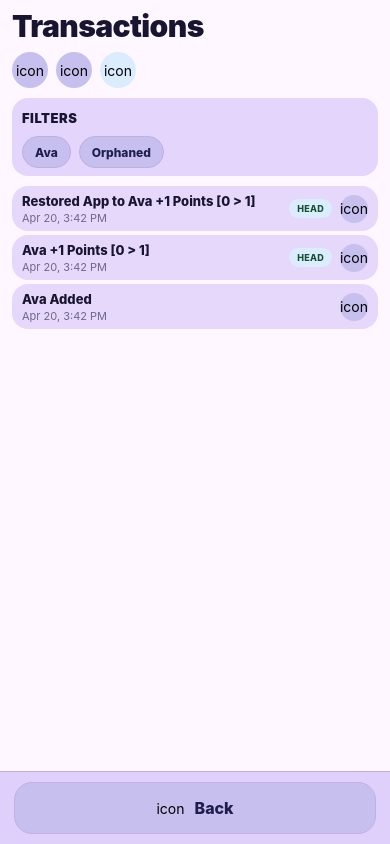
Scenario: TransactionsScreen › can jump from a restore transaction to the original restored transaction
Click the button with aria-label "Expand Restored App to Ava +1 Points [0 > 1]".
click(195, 208)  # box 22,192 -> 368,225
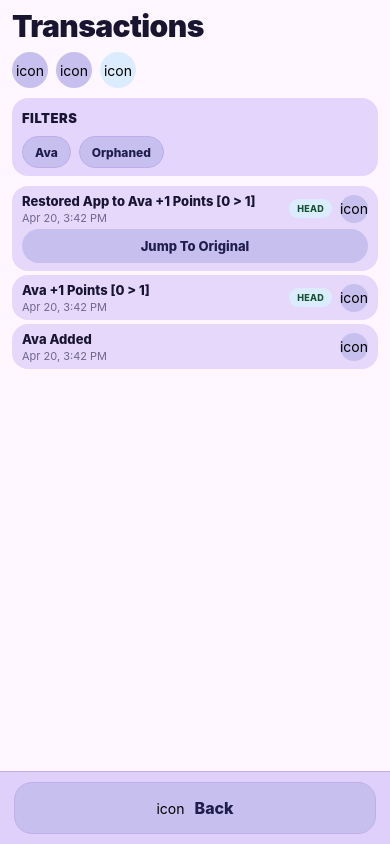
Click the button "Jump To Original".
click(195, 246)  # box 22,229 -> 368,263
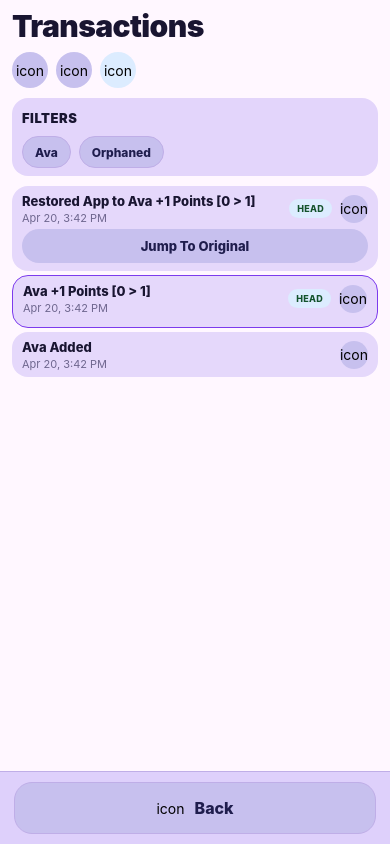
Check: the text "Ava +1 Points [0 > 1]" is shown, box 23,283 -> 151,299
Check: the button with aria-label "Collapse Ava +1 Points [0 > 1]" is shown, box 23,282 -> 367,315
